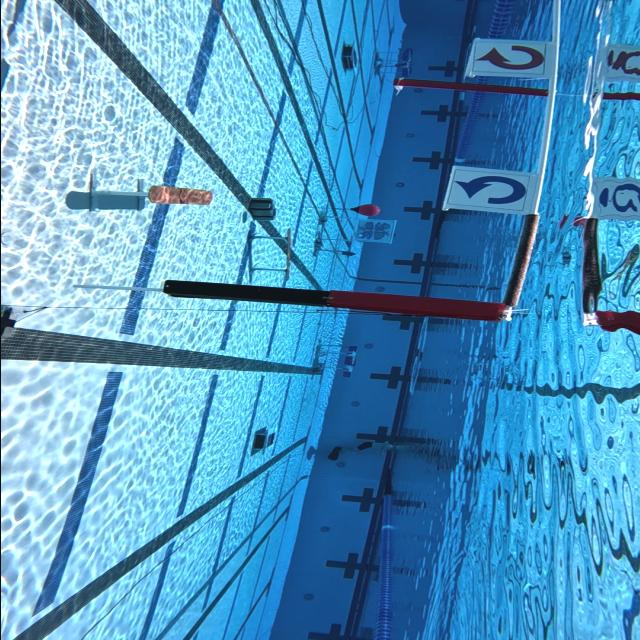blue_side: (441, 165, 545, 219)
red_side: (462, 38, 555, 78)
